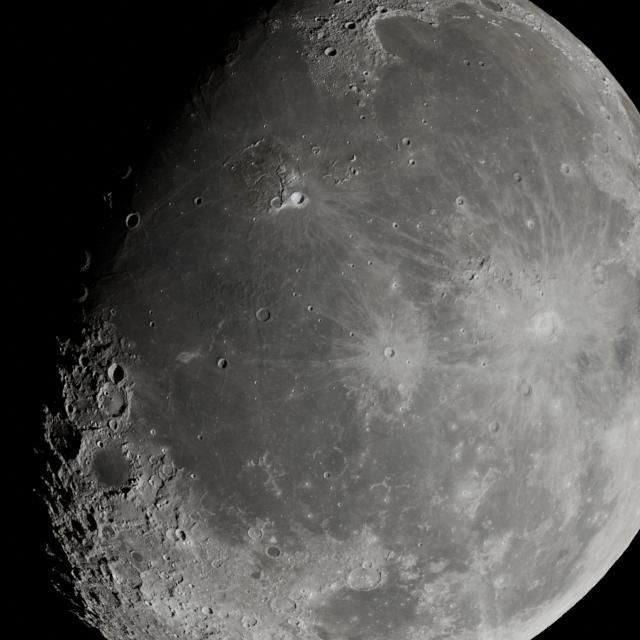crater: (43, 419, 86, 464), (343, 564, 386, 594), (93, 385, 127, 418), (263, 596, 301, 616), (287, 192, 311, 210), (124, 213, 144, 234), (199, 604, 219, 624), (255, 308, 277, 324), (266, 543, 284, 561), (110, 364, 127, 382), (171, 528, 189, 544), (218, 356, 234, 372), (510, 170, 526, 186), (382, 346, 399, 361), (320, 47, 342, 58), (557, 163, 574, 176), (344, 22, 361, 32), (269, 198, 283, 209), (108, 422, 122, 432), (402, 136, 412, 148), (458, 196, 468, 208), (409, 160, 417, 168)
